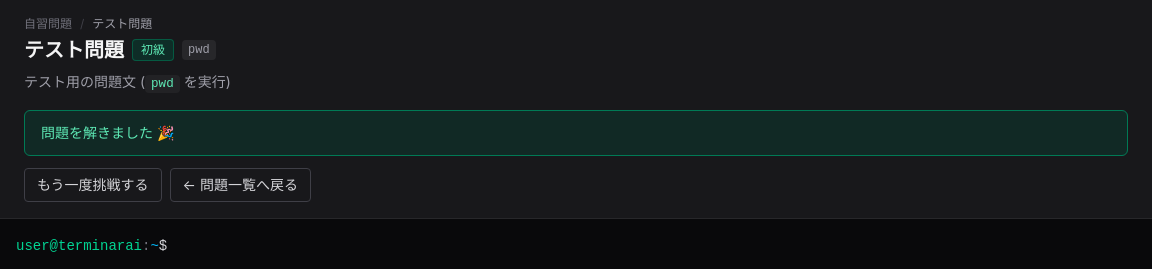
Test: PracticeView › 解答済後「もう一度挑戦する」で説明とヒントが復活し、解答記録は保持される
Expected: the text "問題を解きました 🎉" is shown, [24,110,1128,156]
Expected: the text "pwd を実行してください" is not shown
Click the button "もう一度挑戦する".
click(93, 185)  # box [24,168,162,202]
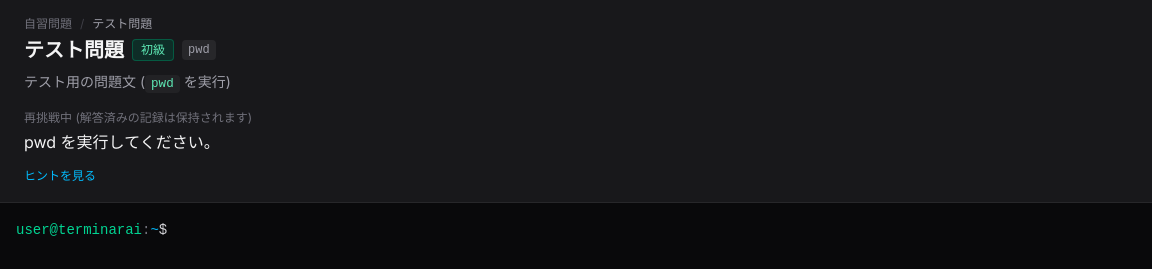
Result: the text "pwd を実行してください。" is shown at [24,132,220,152]
Result: the button "ヒントを見る" is shown at [24,168,96,184]
Result: the text "再挑戦中 (解答済みの記録は保持されます)" is shown at [24,110,252,125]
